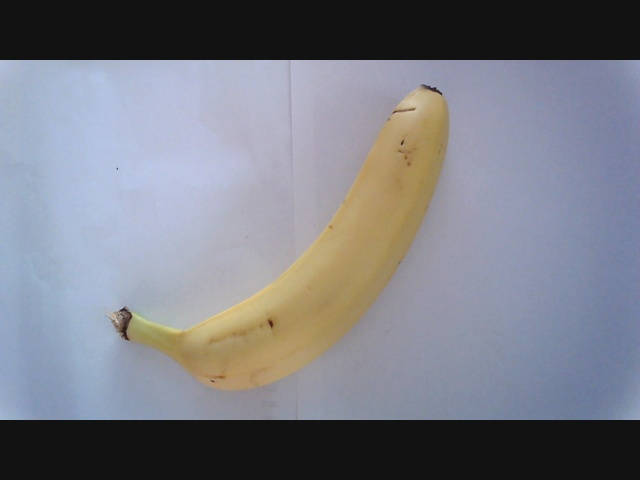banana: (129, 90, 446, 378)
